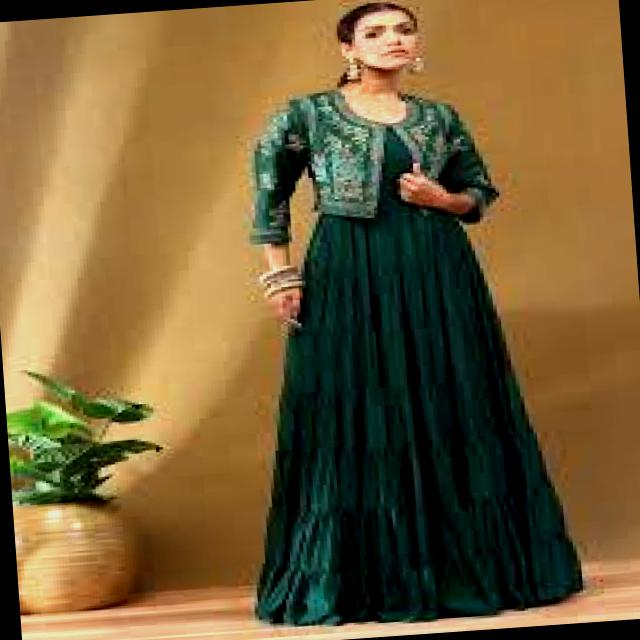dress: (254, 126, 582, 625)
